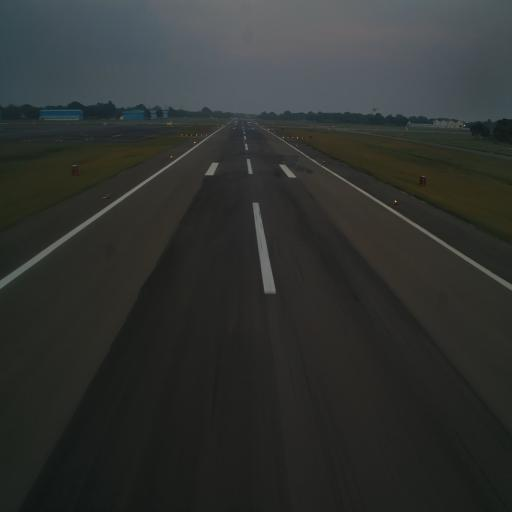off: (102, 192, 110, 202)
on: (393, 198, 398, 204)
